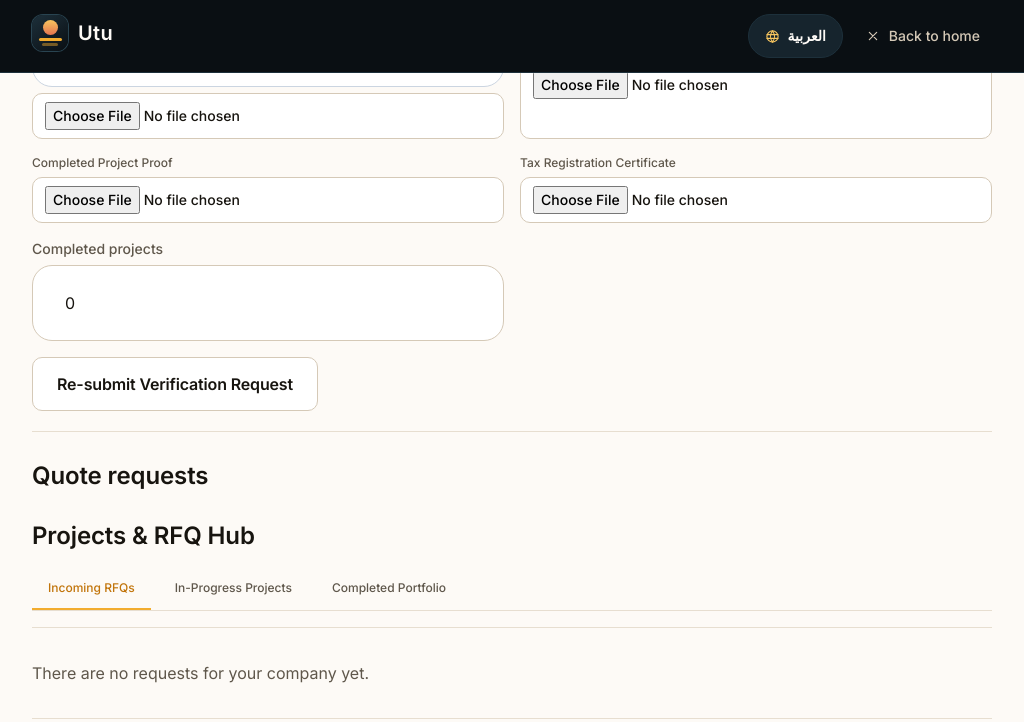
CompanyPortalPage quote marketplace › resubmits verification for a fresh admin review
This screenshot has width=1024, height=722.
(page scrolled)
Click the button "Re-submit Verification Request": (175, 384) [32,357,318,411]
(page scrolled)
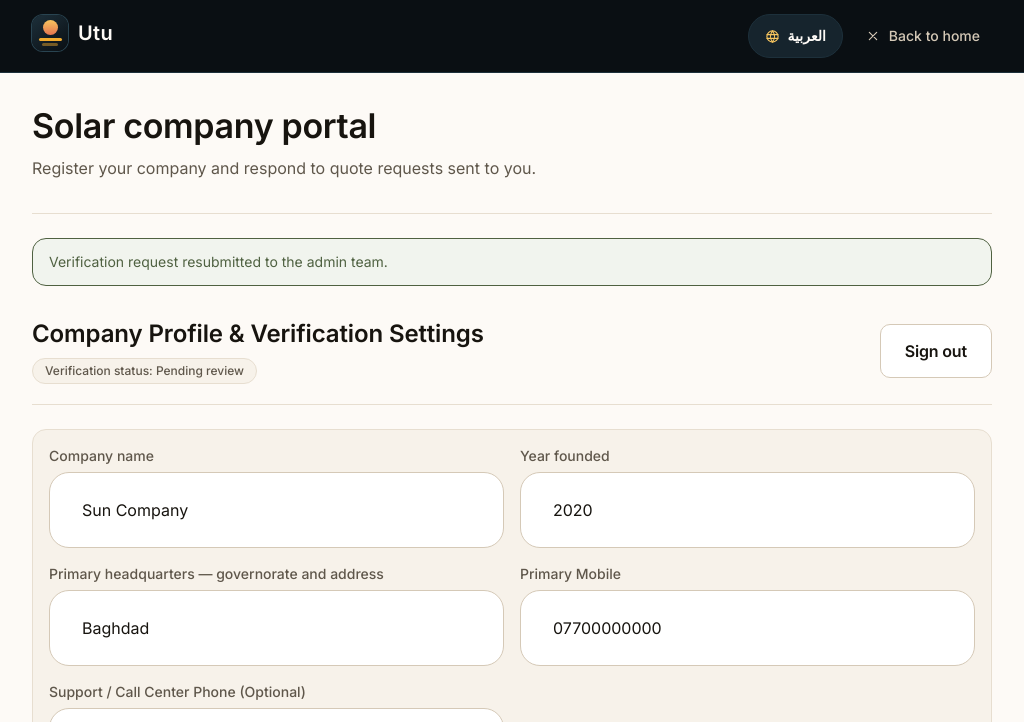
Result: the text "Verification status: Pending review" is shown at [32,358,257,384]
Result: the text "Verification request resubmitted to the admin team." is shown at [32,238,992,286]
